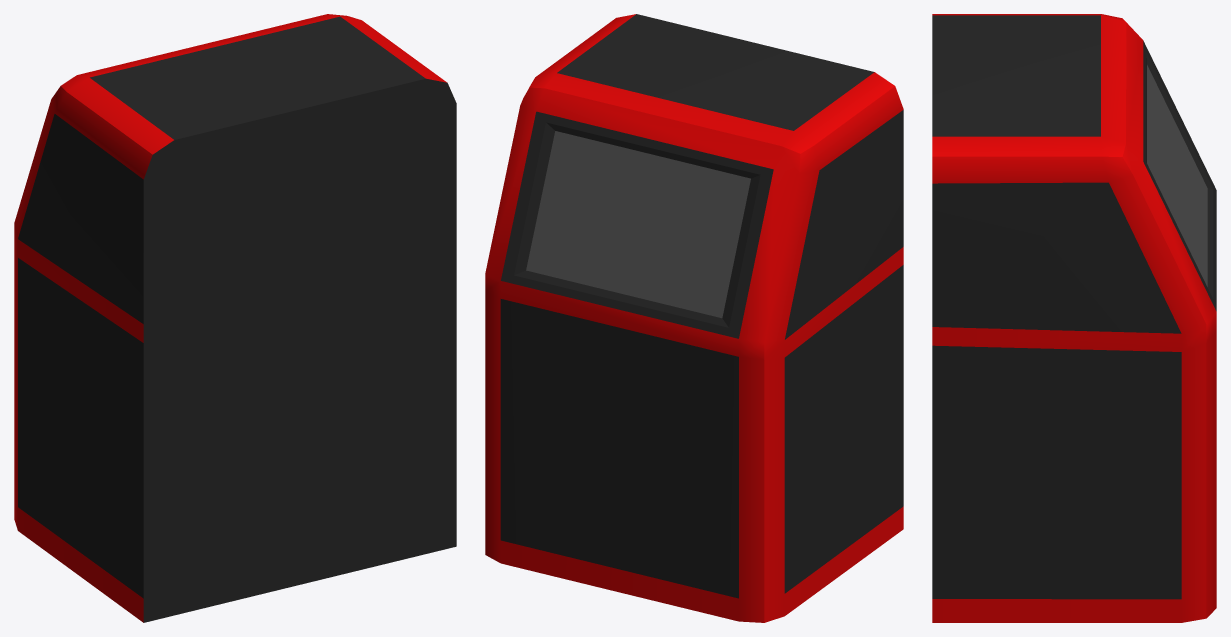
The model's file is therminal.fbx.
3 renders of one model, left to right at view 1: azimuth 30°, elevation 25°; view 2: azimuth 150°, elevation 25°; view 3: azimuth 270°, elevation 25°, orthographic. The views are drawn at different scales.
Parts seen in each view (by area): view 1: pCube1; view 2: pCube1; view 3: pCube1.
Boxes of the visible parts, x1=… form: pCube1: x1=14, y1=14, x2=456, y2=622; pCube1: x1=485, y1=14, x2=903, y2=622; pCube1: x1=932, y1=14, x2=1216, y2=622.
Bounding box in the file's own units: 1.19 × 1.73 × 0.948.
